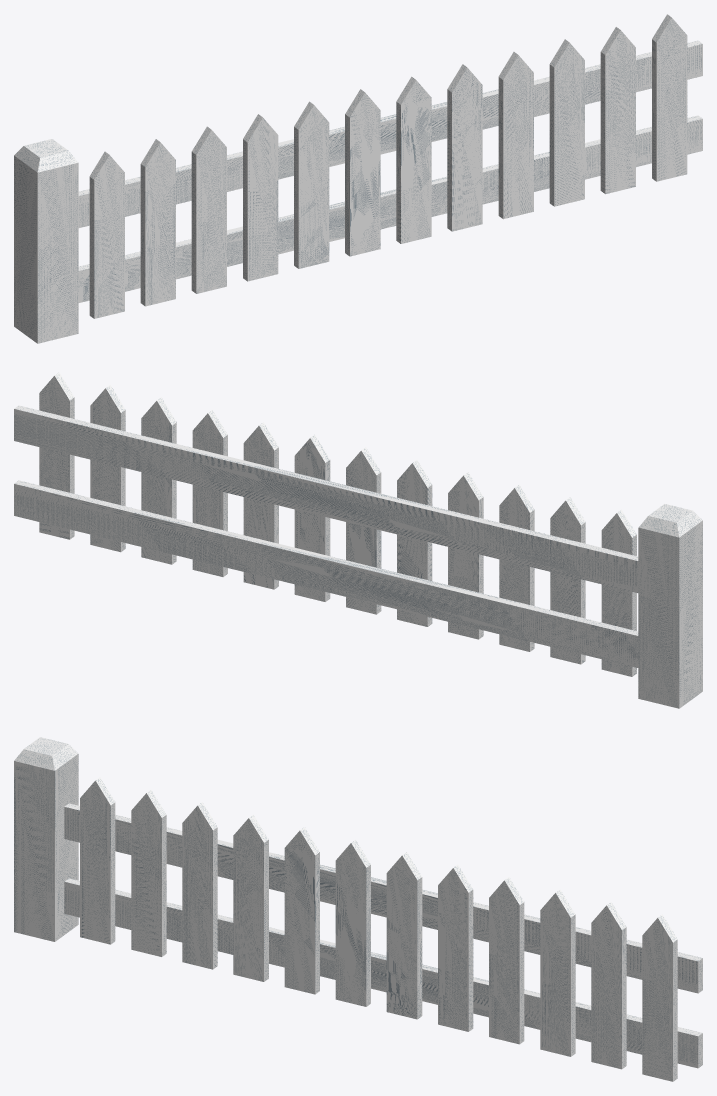
File: Fence.fbx
3 views of the same model, one above another, from view 1: azimuth 30°, elevation 25°; view 2: azimuth 150°, elevation 25°; view 3: azimuth 330°, elevation 25° (orthographic).
Parts seen in each view (by area): view 1: Column, Board, Board1, Plank1, Plank3, Plank6, Plank10, Plank2, Plank5, Plank8, Plank9, Plank (+3 smaller); view 2: Board, Board1, Column, Plank, Plank4, Plank2, Plank5, Plank6, Plank11, Plank3, Plank9, Plank7 (+3 smaller); view 3: Column, Board1, Board, Plank, Plank3, Plank5, Plank6, Plank4, Plank10, Plank1, Plank2, Plank7 (+3 smaller).
Part boxes in pixels (x1,y1,x2,y2): Column: (14,139,78,343); Board: (78,40,702,227); Board1: (78,115,702,302); Plank1: (447,64,482,231); Plank3: (191,126,226,293); Plank6: (89,151,124,318); Plank10: (294,101,329,268); Plank2: (652,14,687,181); Plank5: (345,89,380,256); Plank8: (498,52,533,219); Plank9: (140,139,175,306); Plank: (396,76,431,243); Board: (14,405,638,592); Board1: (14,480,638,667); Column: (638,504,702,708); Plank: (294,434,330,601); Plank4: (141,397,176,564); Plank2: (39,372,74,539); Plank5: (346,447,381,614); Plank6: (601,509,636,676); Plank11: (448,472,483,639); Plank3: (499,484,534,651); Plank9: (550,497,585,664); Plank7: (90,385,125,552); Column: (14,737,78,941); Board1: (64,878,702,1068); Board: (64,803,702,993); Plank: (386,852,422,1019); Plank3: (182,802,217,969); Plank5: (335,839,370,1006); Plank6: (80,777,115,944); Plank4: (540,889,575,1056); Plank10: (284,827,319,994); Plank1: (438,864,473,1031); Plank2: (642,914,677,1081); Plank7: (591,902,626,1069).
Bounding box in the file's own units: 330 × 85 × 20.
